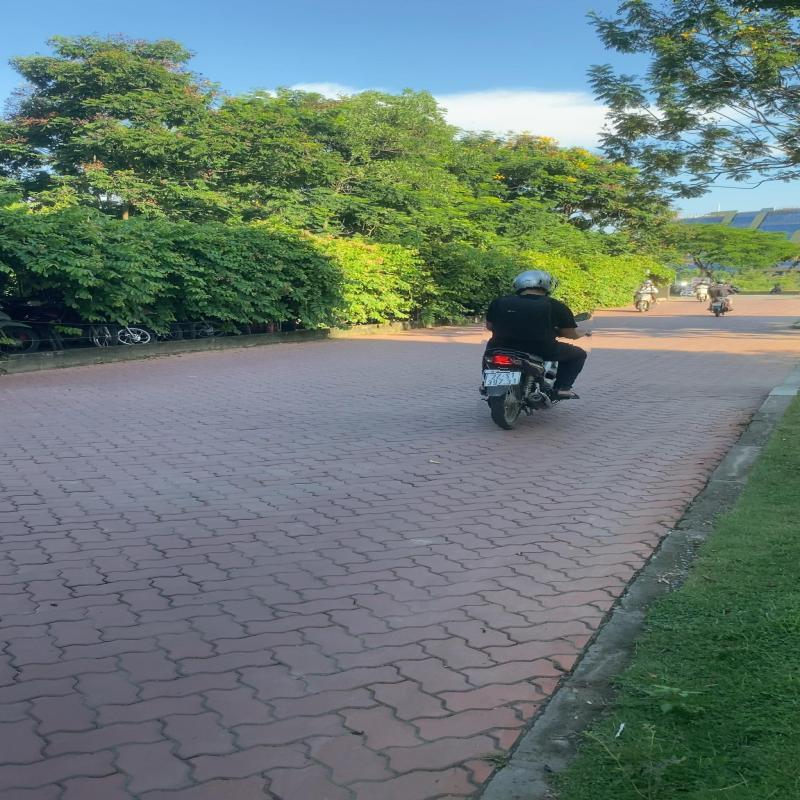helmet: (509, 268, 555, 296)
licenseplate: (484, 372, 522, 386)
motorcyclist: (478, 269, 594, 432)
